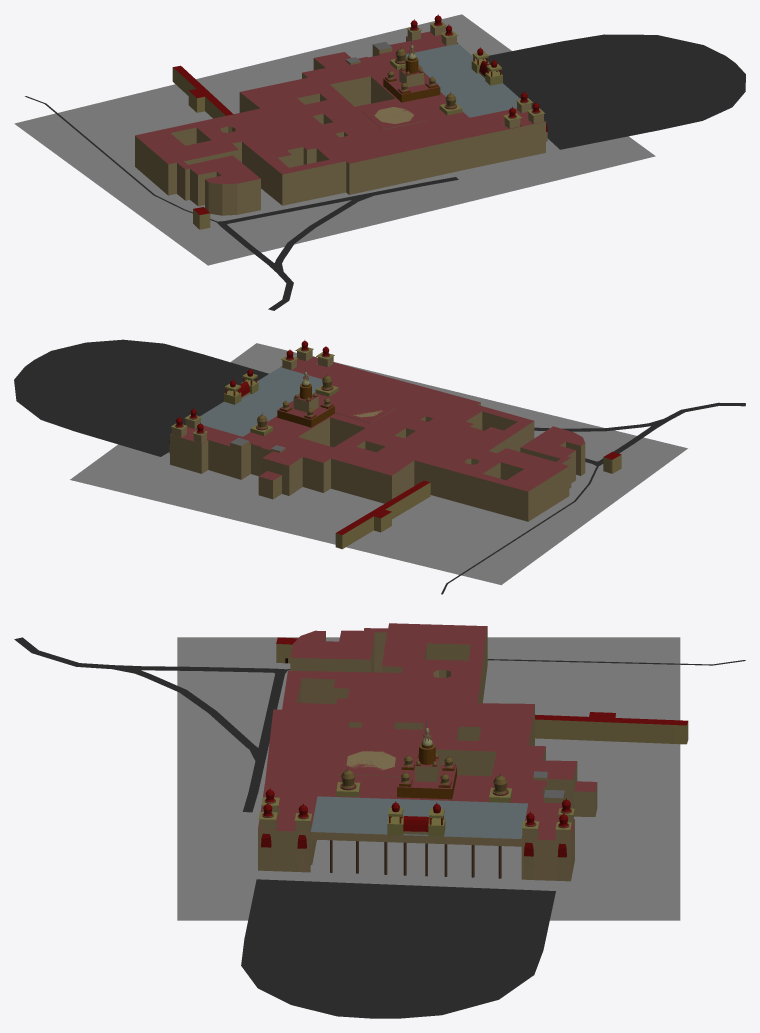
The model's file is Mysore.obj.
3 views of the same model, one above another, from view 1: azimuth 30°, elevation 25°; view 2: azimuth 150°, elevation 25°; view 3: azimuth 270°, elevation 25° (orthographic). The views are drawn at different scales.
Visible parts, largest first — view 1: Building Mysore Palace, SurfaceArea25, RoadArea22, Building24, Road17; view 2: Building Mysore Palace, SurfaceArea25, RoadArea22, Building24; view 3: SurfaceArea25, Building Mysore Palace, RoadArea22, Building24, Road17.
Boxes of the visible parts, x1,y1,x2,y2 form: Building Mysore Palace: (135, 14, 547, 215); SurfaceArea25: (14, 14, 655, 265); RoadArea22: (475, 34, 745, 149); Building24: (172, 65, 233, 118); Road17: (225, 197, 350, 223); Building Mysore Palace: (169, 340, 585, 521); SurfaceArea25: (70, 343, 687, 585); RoadArea22: (14, 339, 268, 456); Building24: (335, 480, 430, 549); SurfaceArea25: (177, 637, 680, 920); Building Mysore Palace: (258, 623, 597, 881); RoadArea22: (241, 879, 555, 1018); Building24: (535, 712, 688, 744); Road17: (258, 673, 284, 747).
Size of the model in its own units: 323 by 42 by 262.
